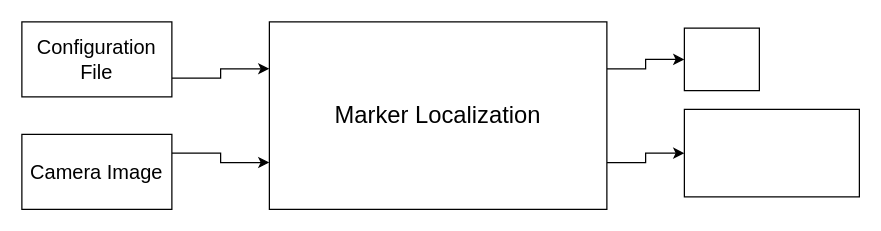
This 881x231 diagram has some shape labels left out. The centre of each missing label's shape, as x and y in pixels:
Stamped Pose with Covariance Message: point (771, 152)
TF: point (721, 59)
